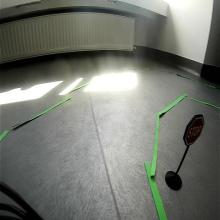stop: (182, 114, 206, 146)
